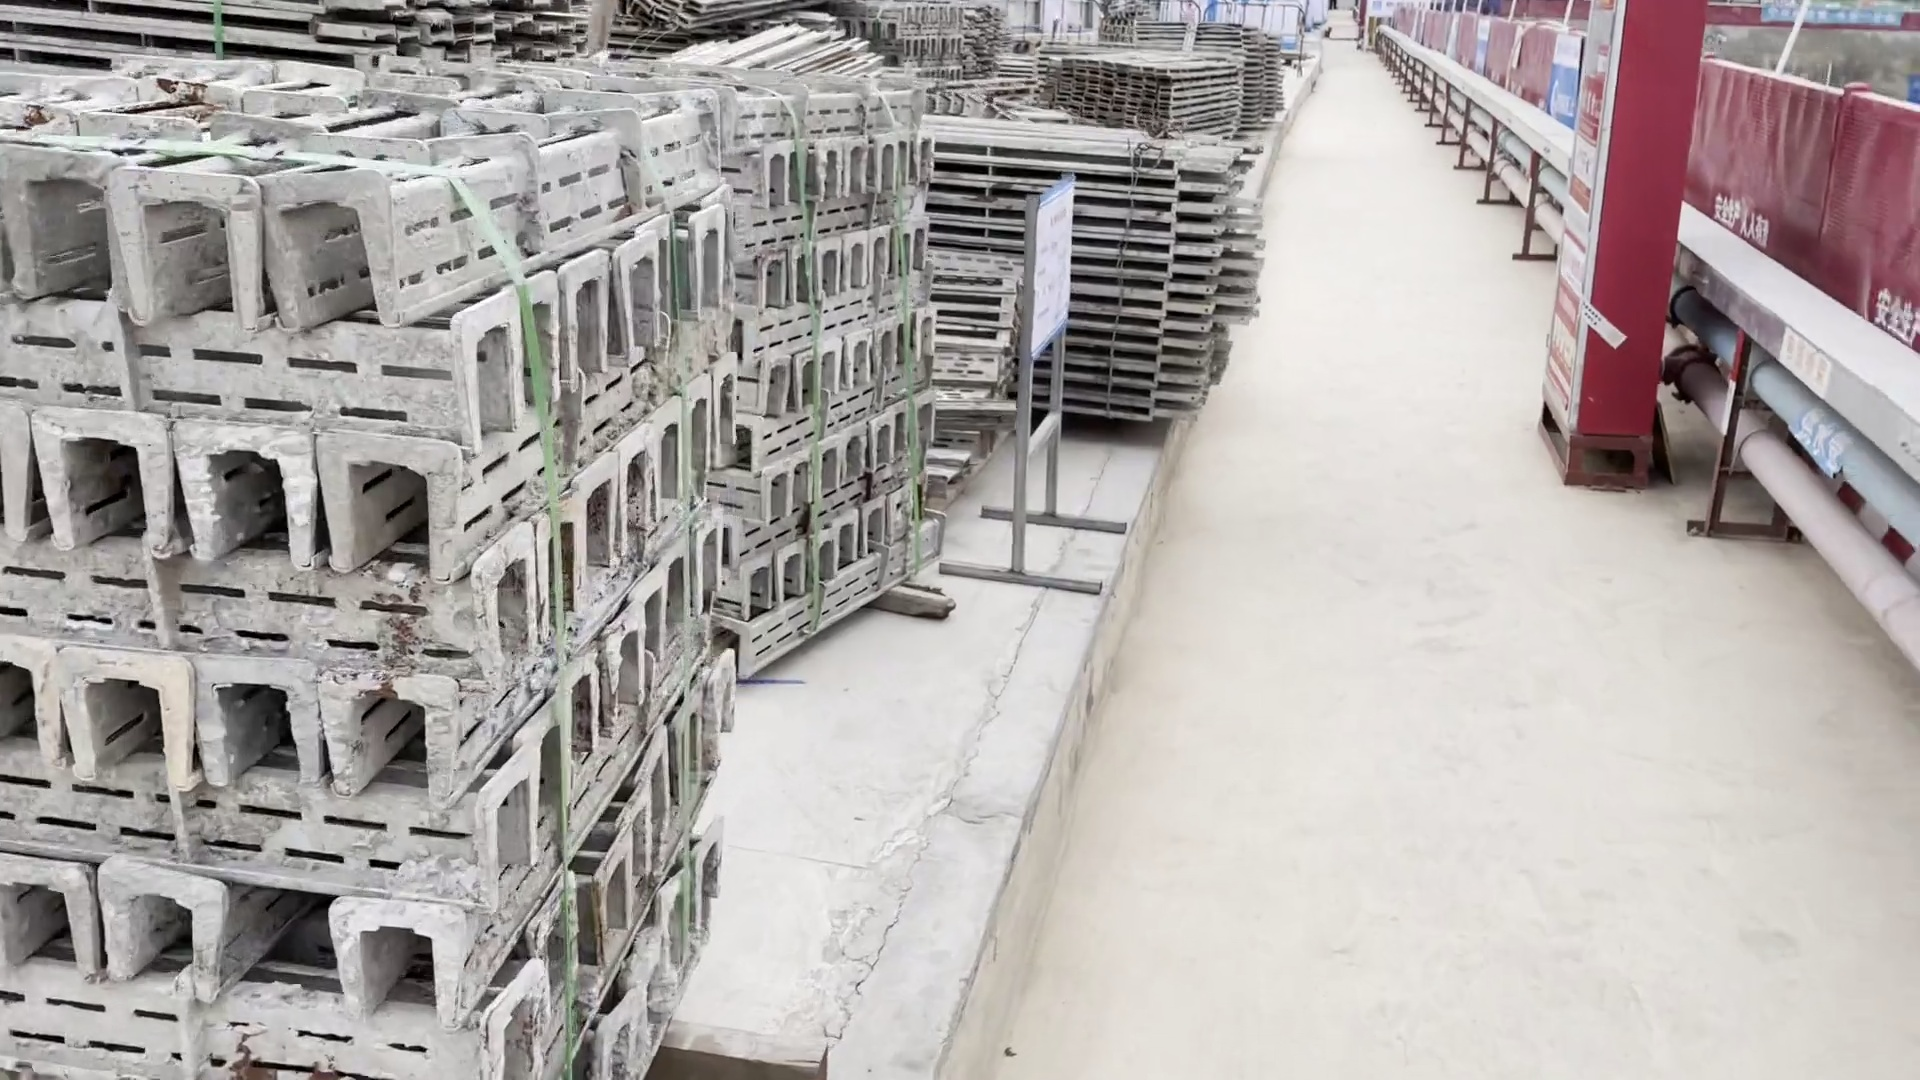fence: (1687, 57, 1920, 356), (1399, 8, 1581, 142)
slogan: (994, 166, 1095, 388), (1538, 26, 1586, 137), (1458, 9, 1501, 103)
